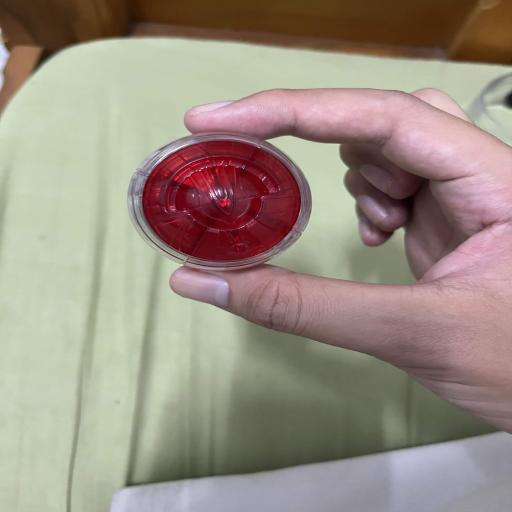capsem: (128, 136, 310, 267)
